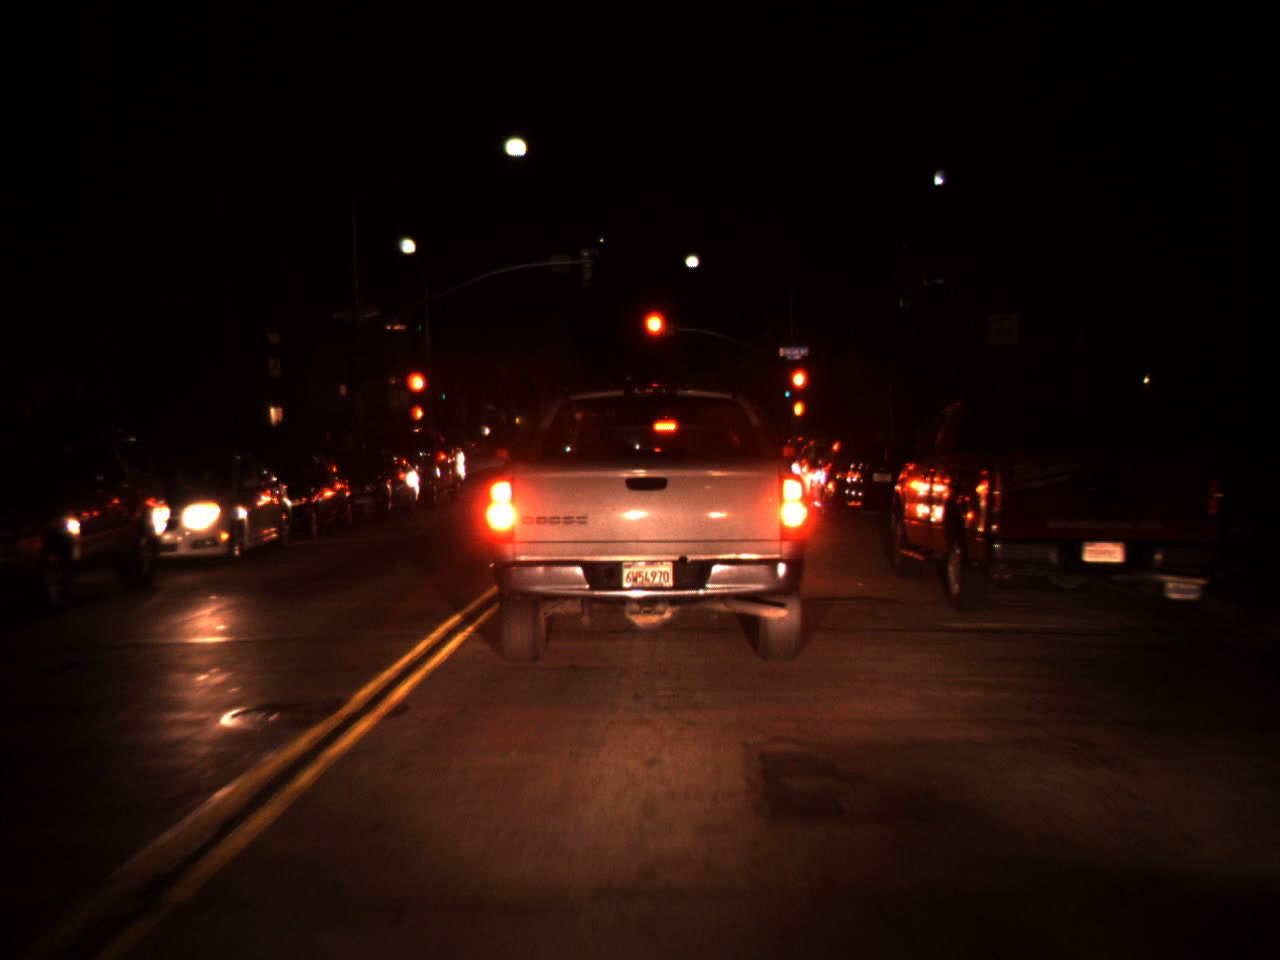stop: (640, 307, 670, 366), (403, 369, 430, 417), (788, 365, 809, 413)
